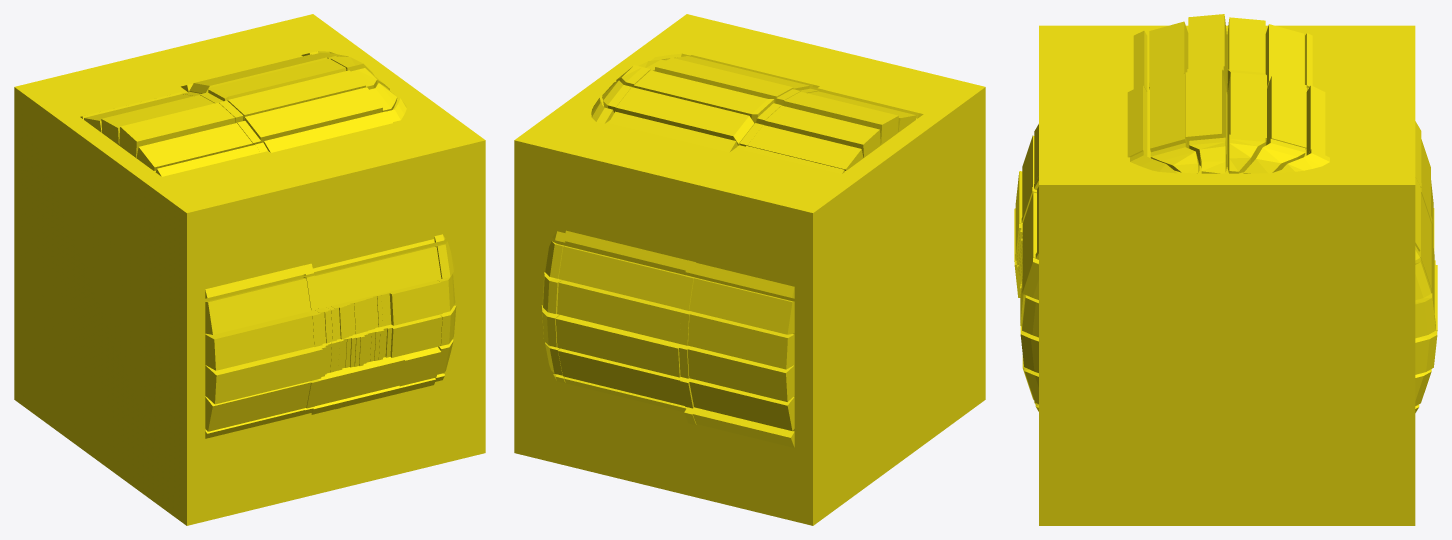
File: Corn.obj
3 views of the same model, side by side, from view 1: azimuth 30°, elevation 25°; view 2: azimuth 150°, elevation 25°; view 3: azimuth 270°, elevation 25° (orthographic). The views are drawn at different scales.
Visible parts, largest first — view 1: 立方体, 円柱; view 2: 立方体, 円柱; view 3: 立方体, 円柱.
Part boxes in pixels (x1=…): 立方体: x1=14, y1=14, x2=485, y2=525; 円柱: x1=80, y1=51, x2=456, y2=438; 立方体: x1=514, y1=14, x2=985, y2=525; 円柱: x1=541, y1=53, x2=923, y2=447; 立方体: x1=1039, y1=25, x2=1415, y2=525; 円柱: x1=1014, y1=14, x2=1437, y2=412.
Size of the model in its own units: 1.58 by 1.77 by 1.78.
